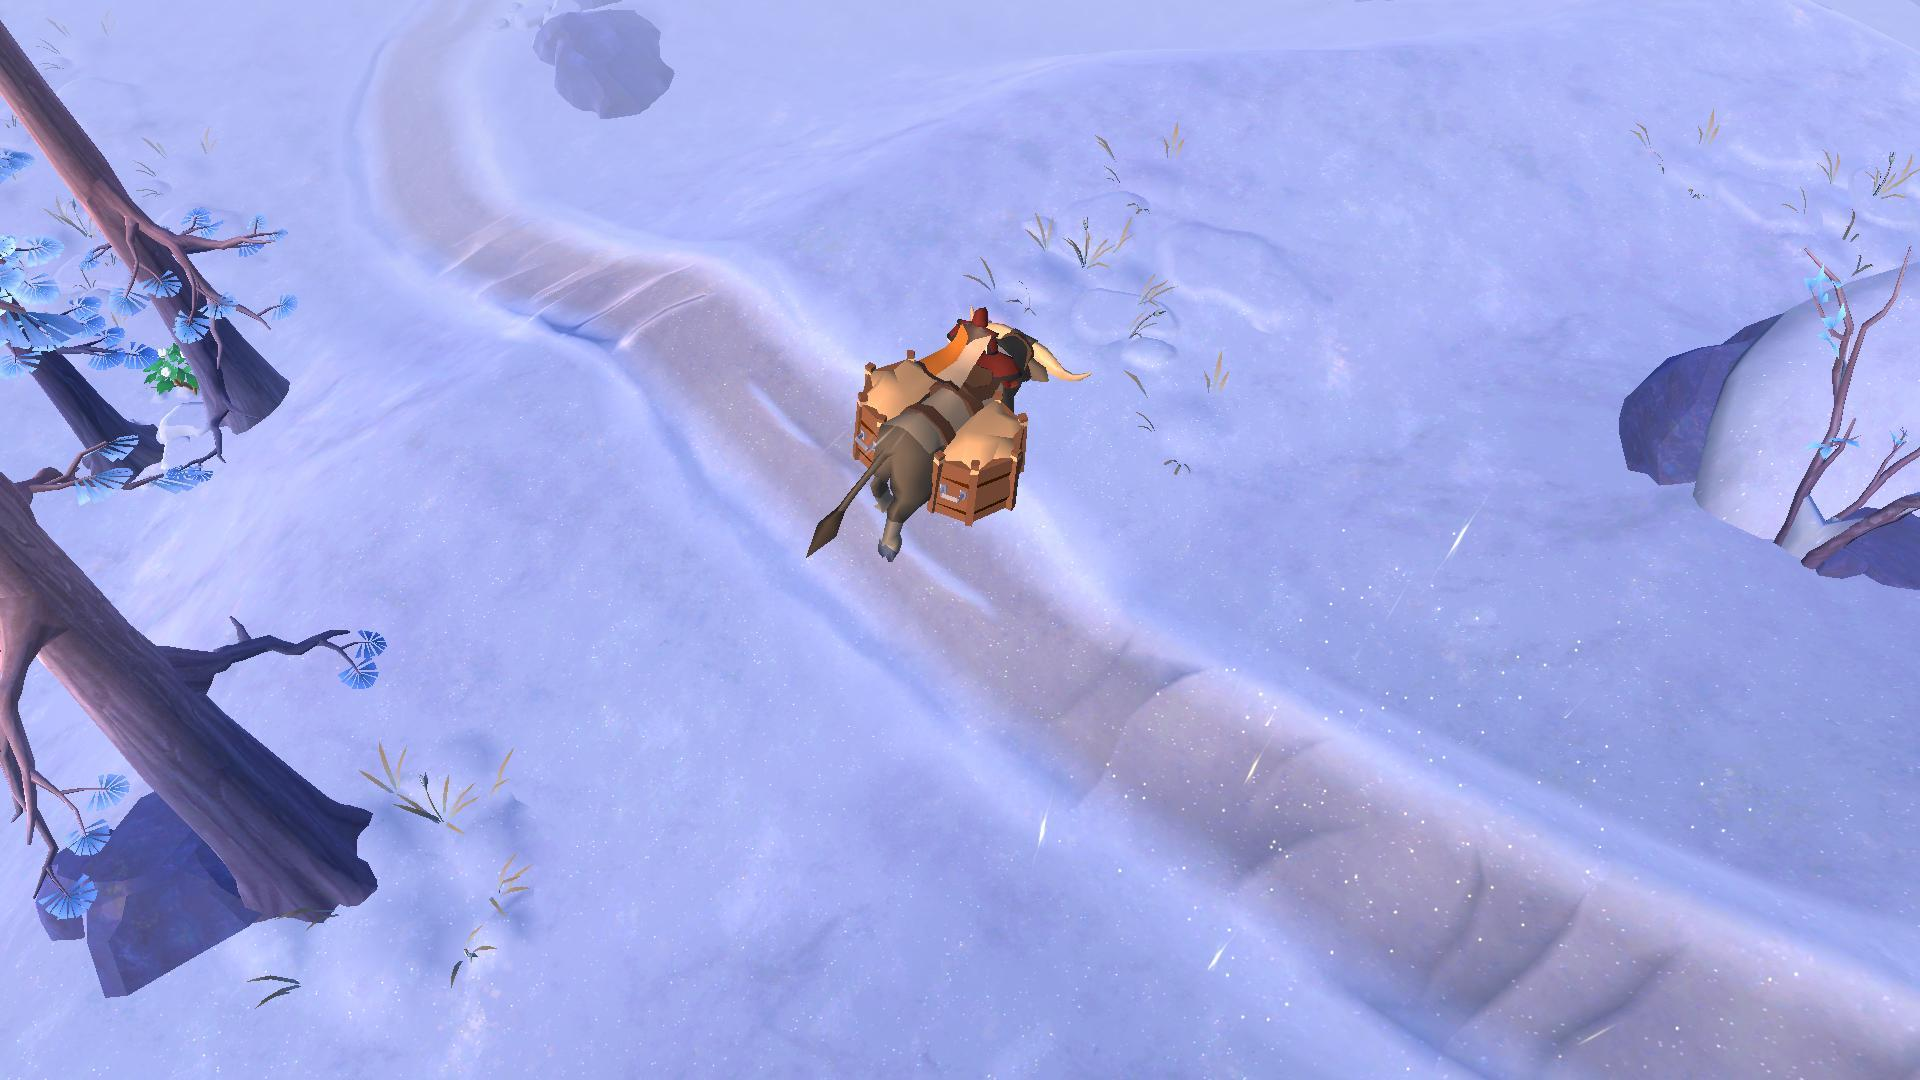fiber_t3: (144, 326, 208, 405)
